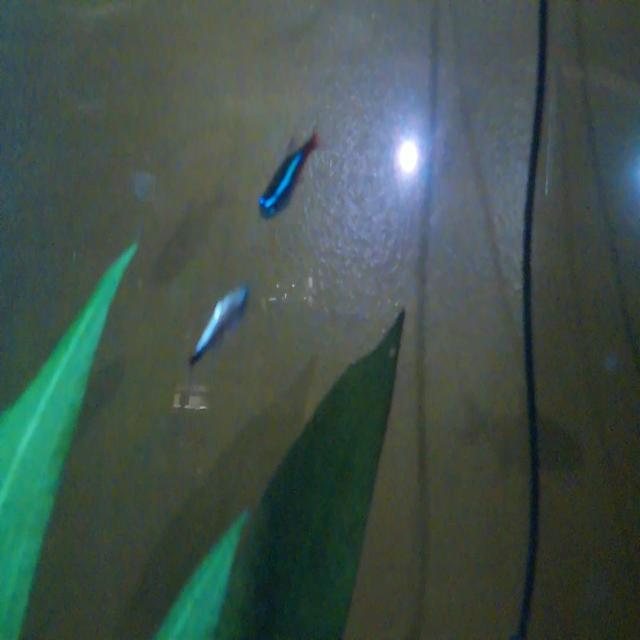fish: (248, 125, 327, 226), (183, 278, 255, 365)
